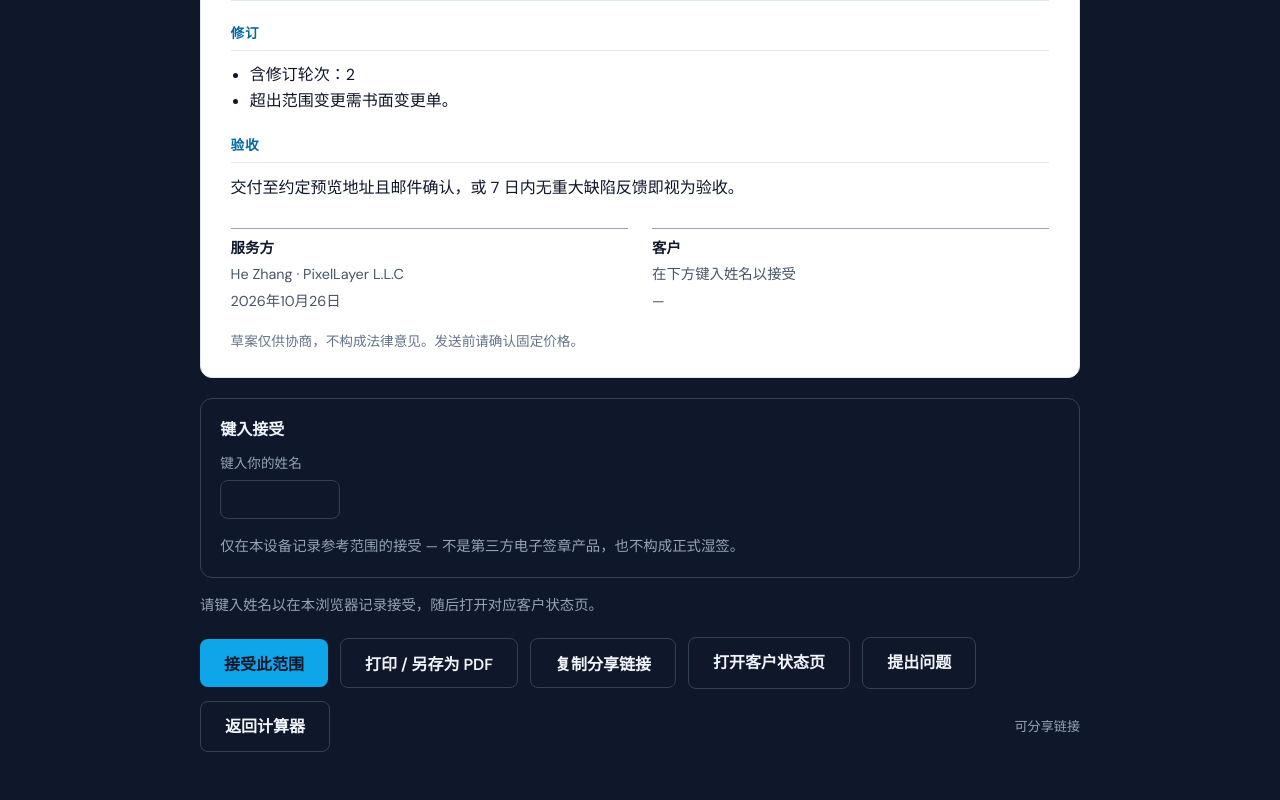
Test: Proposal › shows a copy failure and still accepts when navigation throws
This screenshot has width=1280, height=800.
(page scrolled)
Step 1. Type "阿达" into the field labelled "键入你的姓名" → (280, 500), box [220,480,340,520]
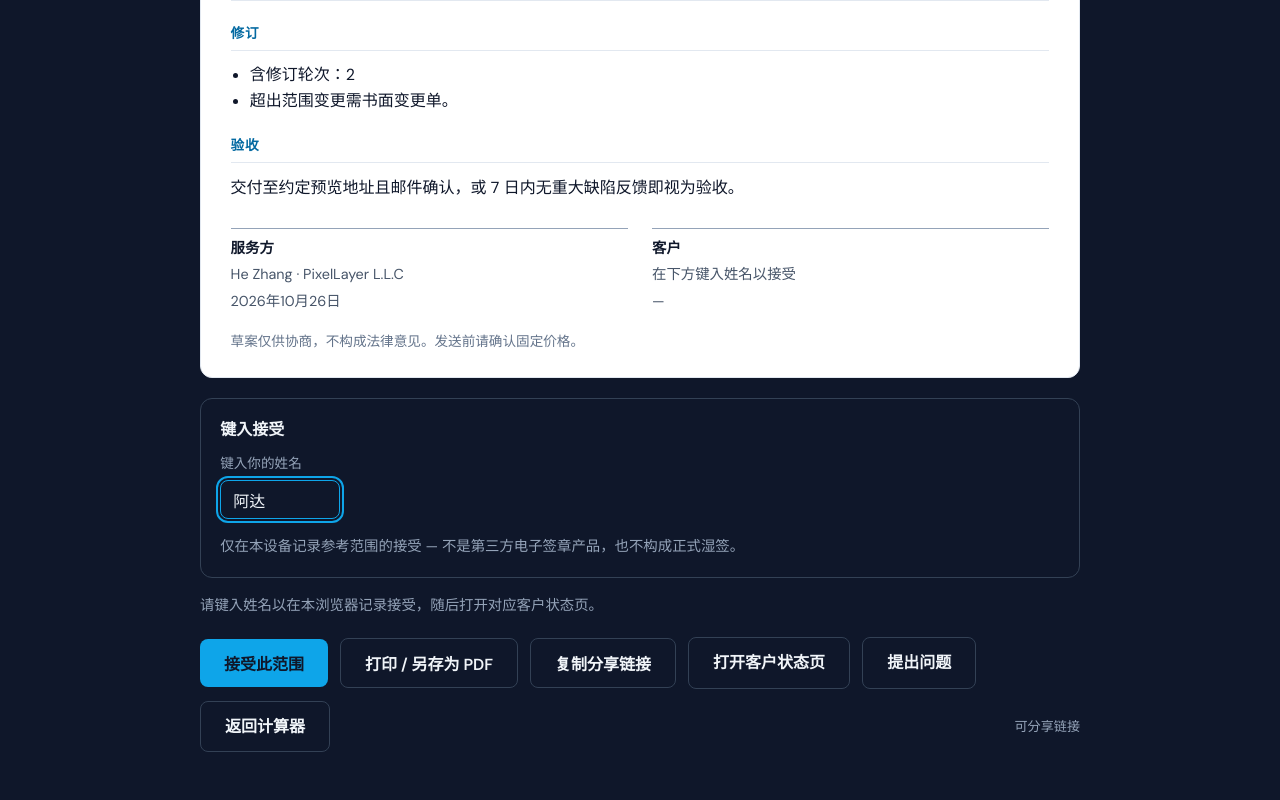
Step 2. Click the button "复制分享链接" → (603, 663), box [530,638,676,688]
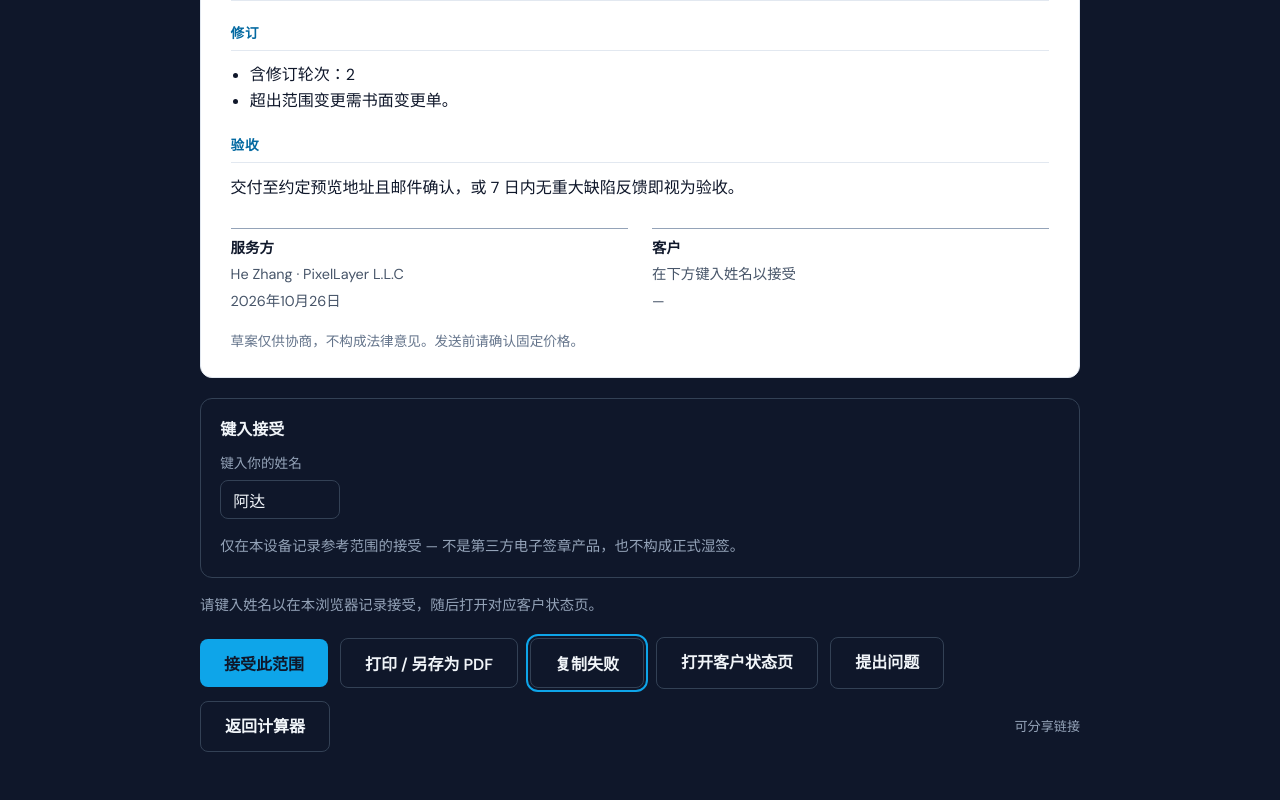
Now the button "复制失败" is shown, box [530,638,644,688]
Step 3. Click the button "接受此范围" → (264, 663), box [200,639,328,687]
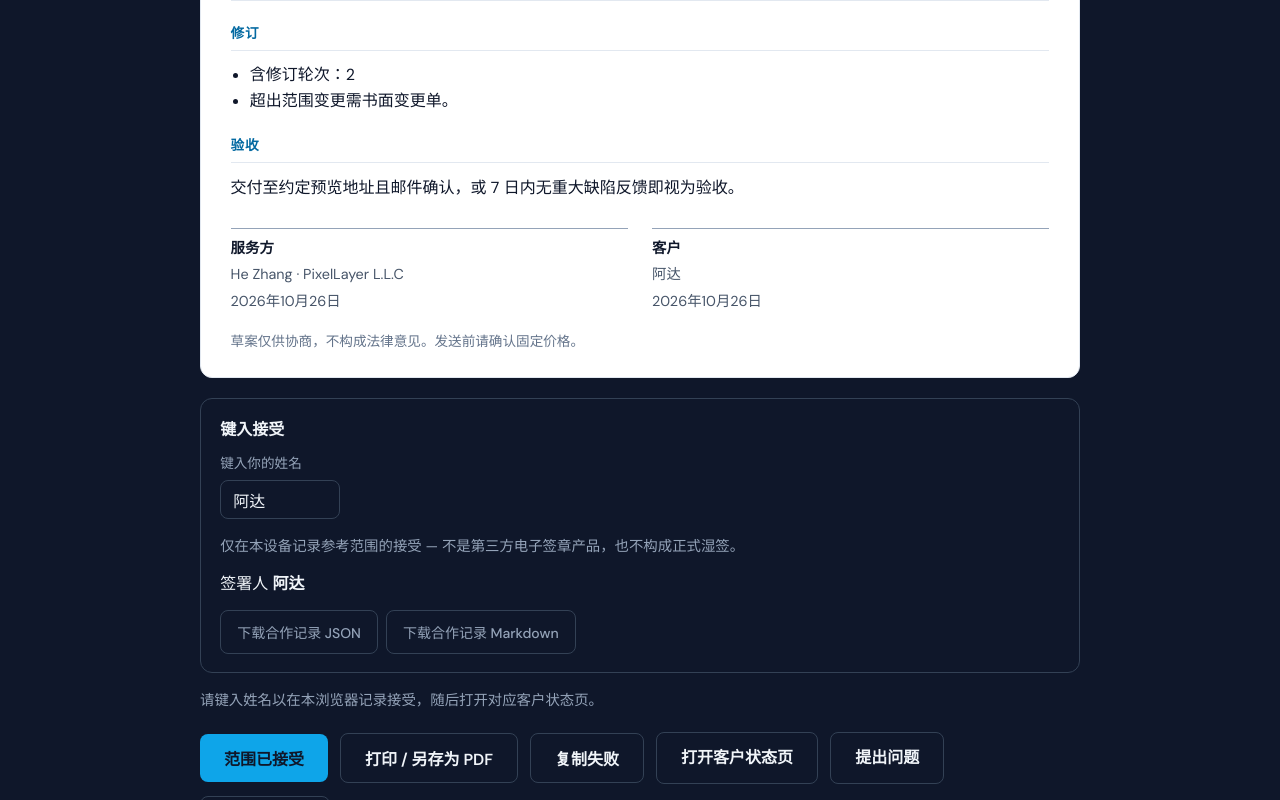
Now the button "范围已接受" is shown, box [200,734,328,782]
Now the text "签署人 阿达" is shown, box [220,572,304,594]
